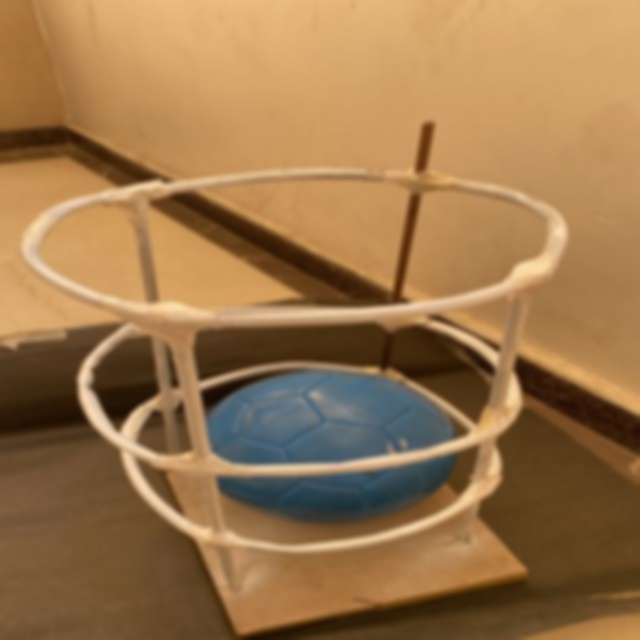blue_ball: (202, 368, 454, 524)
silo: (27, 152, 564, 623)
